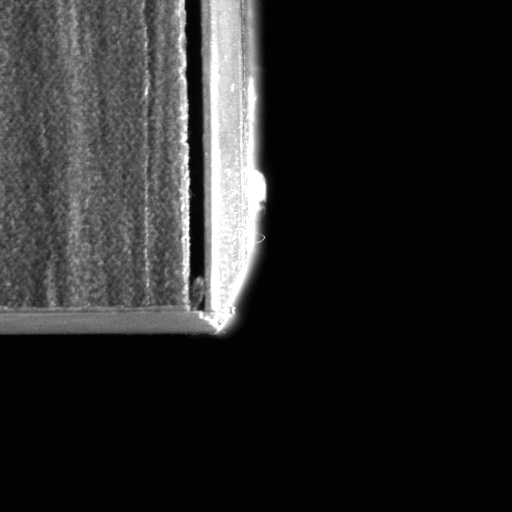kaijiao: (178, 2, 263, 316)
